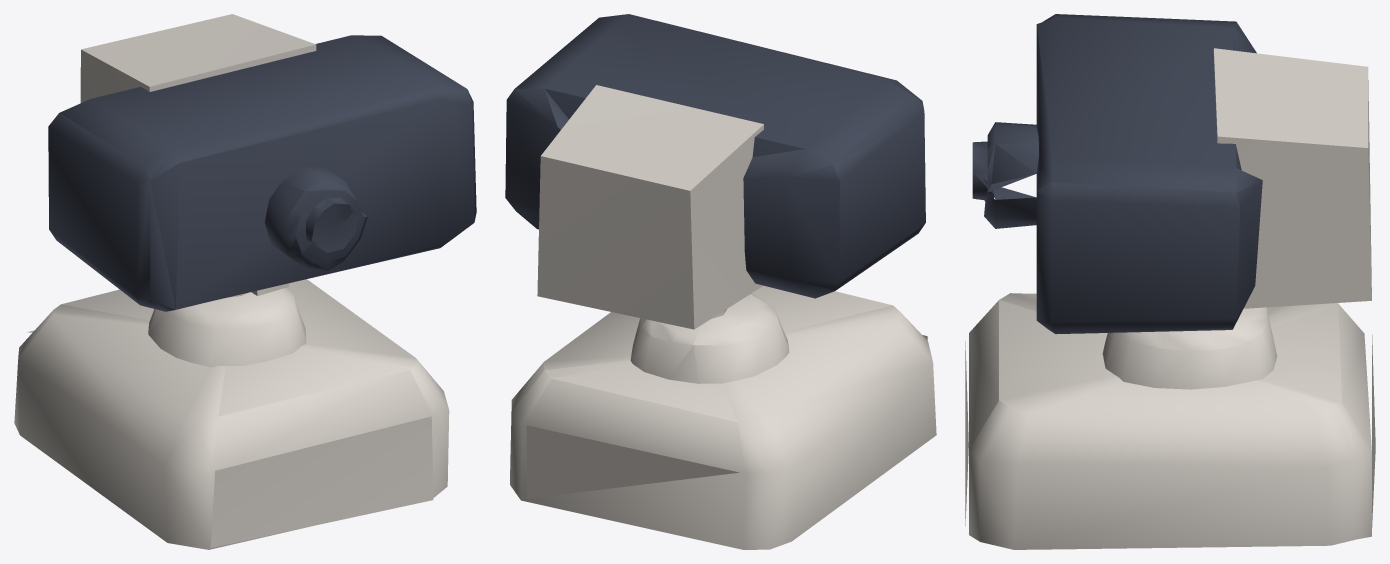
The model's file is gaming_webcam.glb.
The picture shows the model from 3 angles, left to right: view 1: azimuth 30°, elevation 25°; view 2: azimuth 150°, elevation 25°; view 3: azimuth 270°, elevation 25°; orthographic projection. The views are drawn at different scales.
Size of the model in its own units: 0.29 by 0.3252 by 0.2813.
